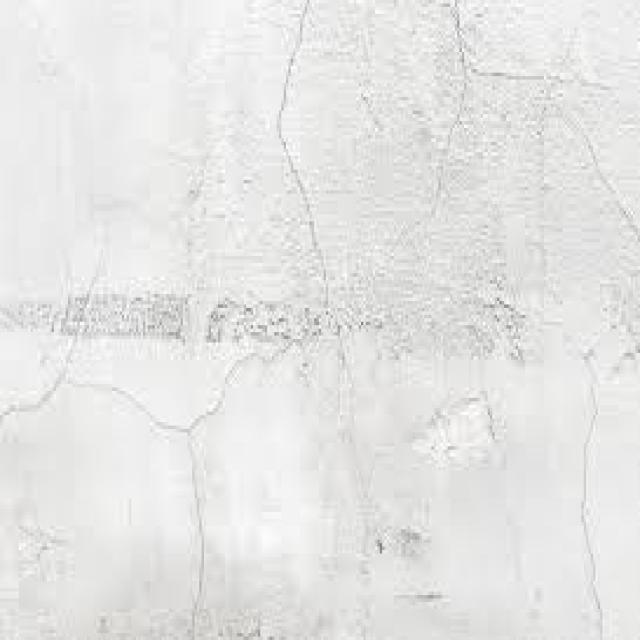crack: (279, 2, 308, 187)
